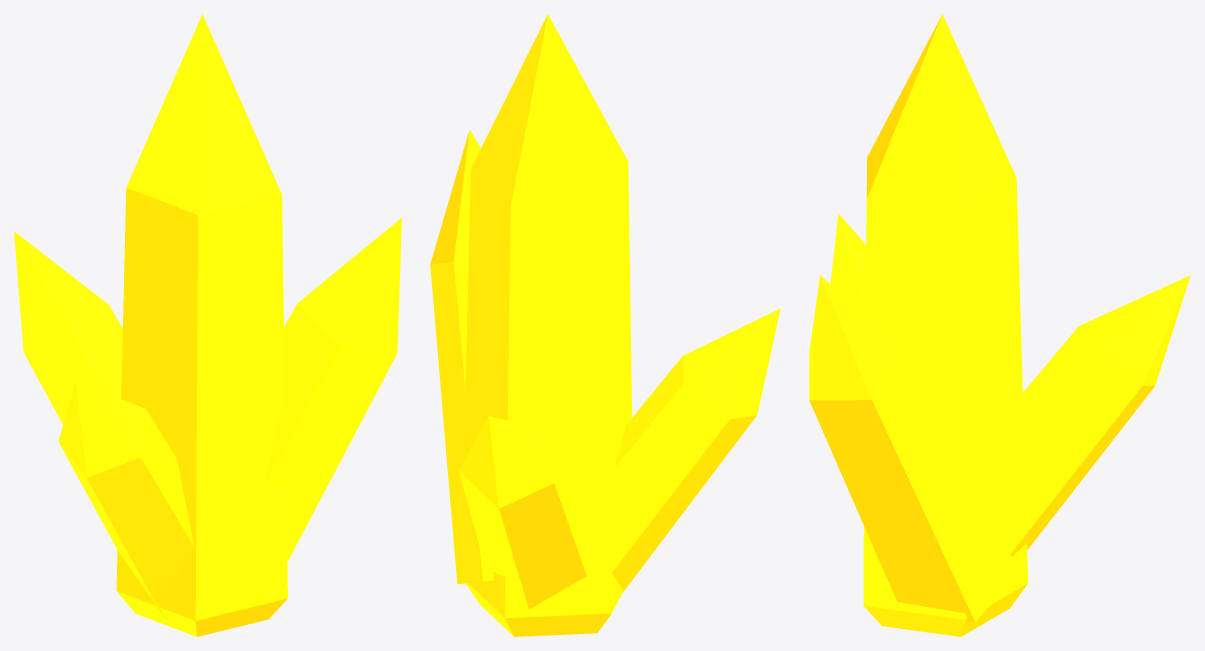
The model's file is GemCrystalCluster.fbx.
The picture shows the model from 3 angles, left to right: view 1: azimuth 30°, elevation 25°; view 2: azimuth 150°, elevation 25°; view 3: azimuth 270°, elevation 25°; orthographic projection.
Visible parts, largest first — view 1: GemCrystalCluster, smallGem.002, smallGem.001, smallGem; view 2: GemCrystalCluster, smallGem.001, smallGem, smallGem.002; view 3: GemCrystalCluster, smallGem.002, smallGem, smallGem.001.
Part boxes in pixels (left/top/right/bottom): GemCrystalCluster: left=116, top=14, right=287, bottom=636; smallGem.002: left=264, top=217, right=401, bottom=561; smallGem.001: left=58, top=381, right=194, bottom=618; smallGem: left=14, top=231, right=122, bottom=424; GemCrystalCluster: left=464, top=14, right=631, bottom=636; smallGem.001: left=612, top=308, right=780, bottom=593; smallGem: left=458, top=416, right=586, bottom=609; smallGem.002: left=430, top=130, right=494, bottom=584; GemCrystalCluster: left=863, top=14, right=1028, bottom=636; smallGem.002: left=809, top=275, right=1017, bottom=622; smallGem: left=1003, top=275, right=1190, bottom=556; smallGem.001: left=830, top=213, right=866, bottom=313.
Size of the model in its own units: 185 by 316 by 184.
